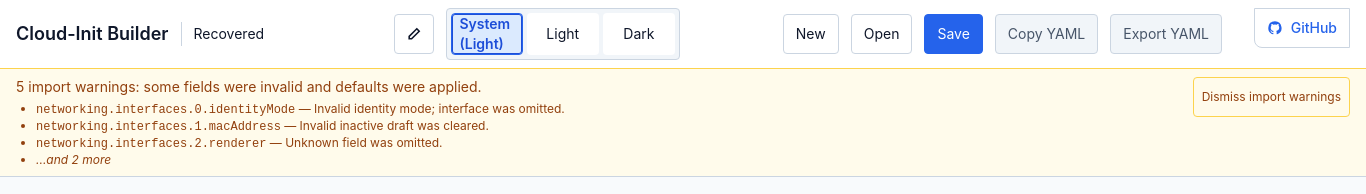
Test case: TopBar warning banner detail (IN-02) › announces networking recovery politely and dismisses shared warnings
Expected: the text "networking.interfaces.0.identityMode" is shown, [36,103,295,117]
Expected: the text "networking.interfaces.1.macAddress" is shown, [36,120,281,134]
What coordinates should you click on to do the following:
click the button "Dismiss import warnings"
I would click on:
 (1271, 97)
Its box is [1193,77,1350,117].
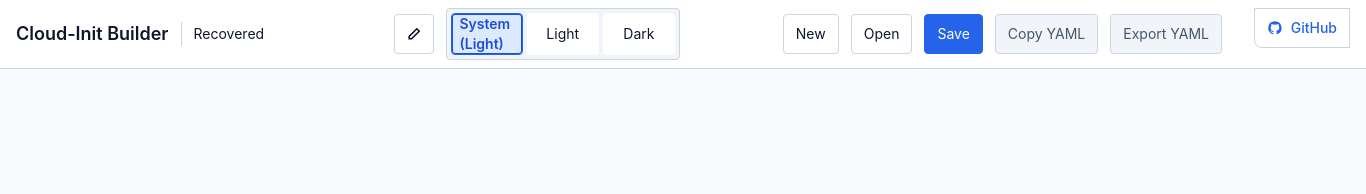
Expected: the message is gone
